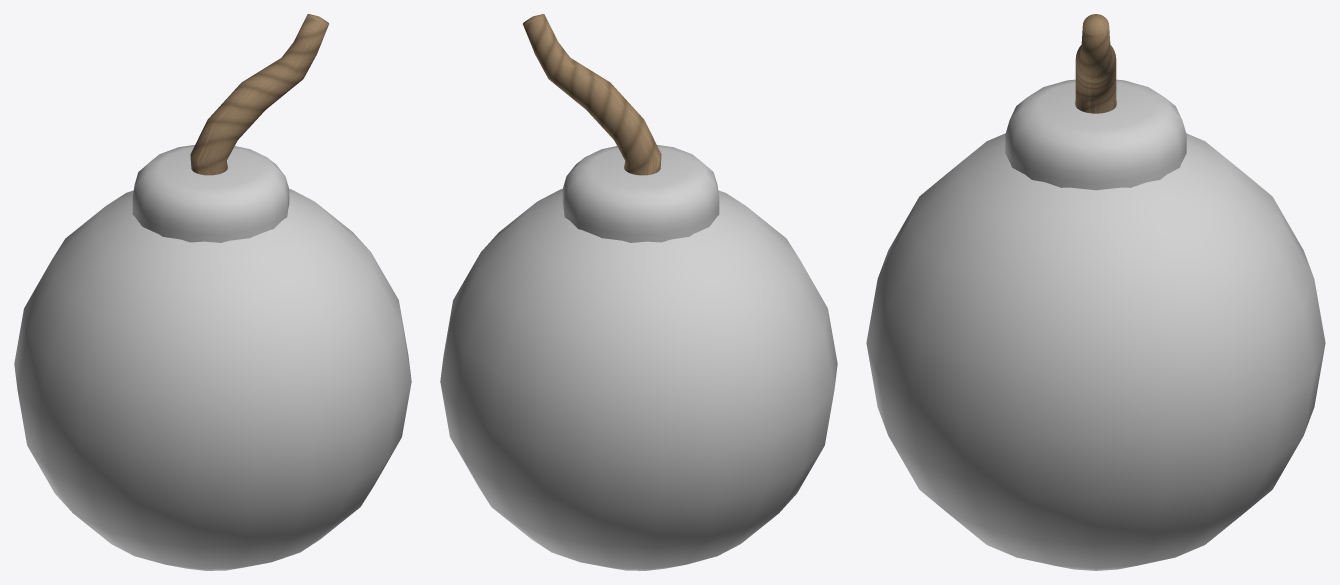
Rendered from Bomb 16.fbx.
3 views of the same model, side by side, from view 1: azimuth 30°, elevation 25°; view 2: azimuth 150°, elevation 25°; view 3: azimuth 270°, elevation 25° (orthographic). The views are drawn at different scales.
Parts seen in each view (by area): view 1: Sphere_1, Cylinder_12, Sphere_12; view 2: Sphere_1, Cylinder_12, Sphere_12; view 3: Sphere_1, Cylinder_12, Sphere_12.
Boxes of the visible parts, left/top/right/bottom form: Sphere_1: left=14, top=189, right=411, bottom=570; Cylinder_12: left=132, top=145, right=289, bottom=242; Sphere_12: left=190, top=14, right=328, bottom=175; Sphere_1: left=440, top=189, right=837, bottom=570; Cylinder_12: left=562, top=145, right=719, bottom=242; Sphere_12: left=523, top=14, right=661, bottom=175; Sphere_1: left=866, top=133, right=1325, bottom=570; Cylinder_12: left=1005, top=79, right=1186, bottom=190; Sphere_12: left=1075, top=14, right=1116, bottom=113.
Bounding box in the file's own units: 160 × 227 × 160.
